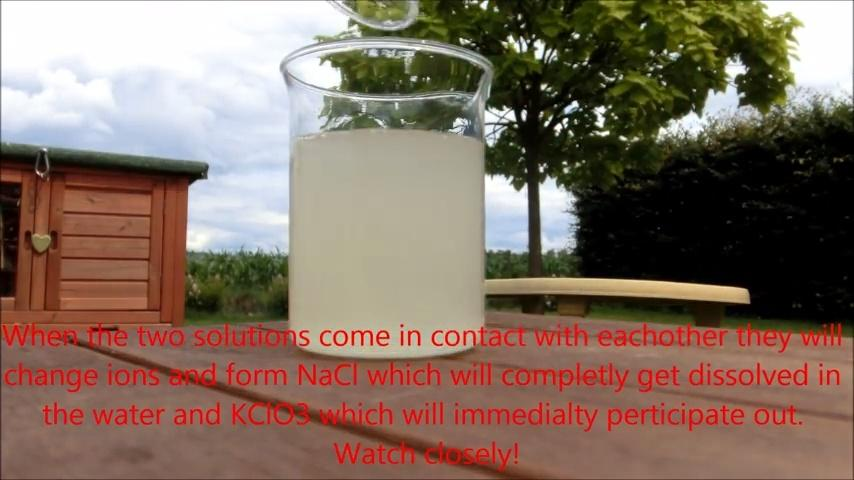Beaker: (273, 35, 502, 362)
